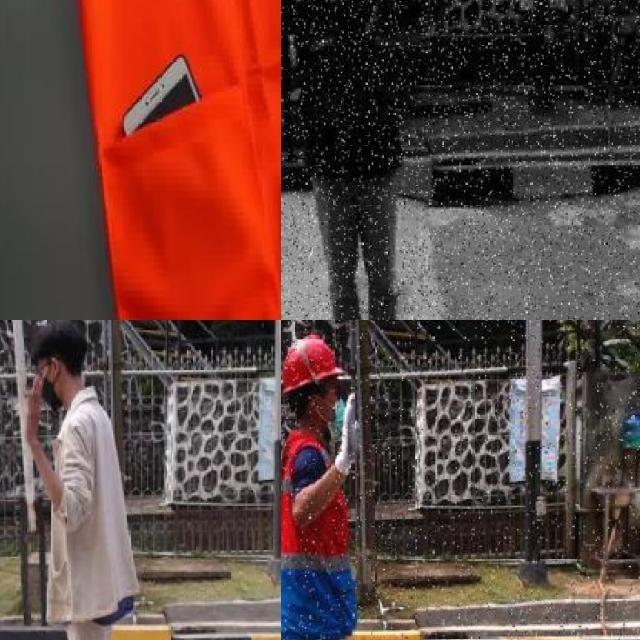apron: (332, 395, 363, 483)
